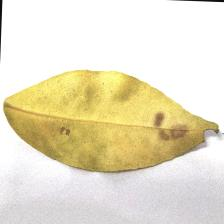black spot: (56, 95, 183, 173)
